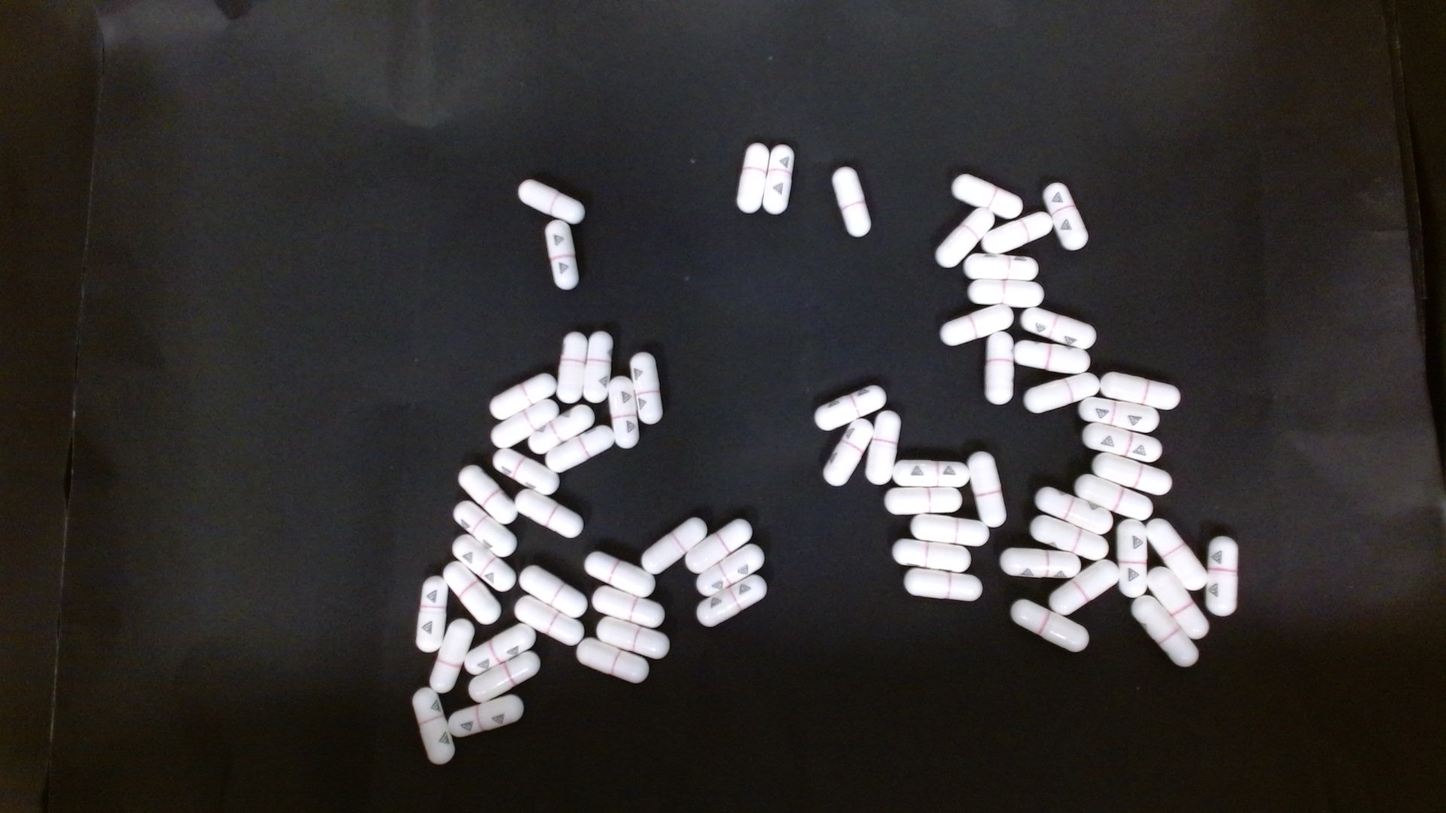Capsule: (1131, 593, 1200, 669), (1148, 564, 1212, 641), (1143, 517, 1209, 589), (694, 540, 767, 600), (1048, 559, 1123, 616), (695, 573, 771, 628), (1033, 485, 1113, 537), (451, 498, 518, 559), (1011, 598, 1088, 651), (442, 559, 502, 627), (1074, 474, 1157, 523), (459, 464, 523, 527), (523, 403, 595, 459), (452, 532, 518, 593), (467, 621, 541, 675), (685, 519, 755, 576), (639, 516, 707, 574), (514, 483, 584, 539), (1091, 452, 1176, 497), (1029, 513, 1110, 560), (465, 651, 538, 703), (518, 563, 587, 618), (934, 209, 997, 269), (489, 398, 561, 449), (517, 175, 587, 226), (813, 383, 887, 431), (514, 594, 585, 644), (821, 419, 873, 487), (1077, 393, 1163, 434), (576, 637, 651, 684), (429, 617, 474, 695), (545, 425, 615, 475), (584, 550, 656, 598), (493, 449, 562, 499), (449, 692, 523, 738), (1081, 421, 1162, 463), (1019, 306, 1098, 349), (939, 302, 1016, 346), (489, 372, 558, 421), (1100, 371, 1182, 412), (1025, 372, 1103, 414), (978, 212, 1052, 256), (591, 585, 664, 629), (1043, 180, 1088, 251), (412, 685, 454, 761), (951, 173, 1022, 217), (596, 616, 668, 659), (966, 449, 1005, 528), (1012, 337, 1092, 375), (1114, 517, 1150, 598), (998, 546, 1081, 580), (1203, 535, 1237, 617), (892, 539, 978, 571), (904, 514, 987, 547), (832, 167, 871, 237), (868, 410, 902, 488), (903, 568, 983, 601), (415, 576, 448, 653), (892, 458, 969, 490), (735, 142, 770, 212), (888, 486, 969, 516), (607, 376, 641, 447), (545, 221, 579, 291), (629, 352, 661, 425), (762, 144, 795, 214), (557, 332, 589, 402), (966, 252, 1040, 282), (984, 331, 1013, 407), (584, 332, 613, 403), (969, 279, 1042, 307)
